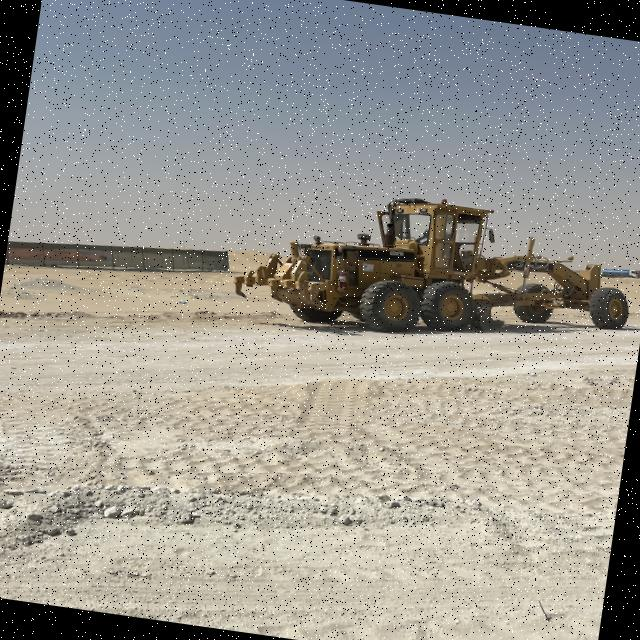Grader: (224, 165, 640, 380)
